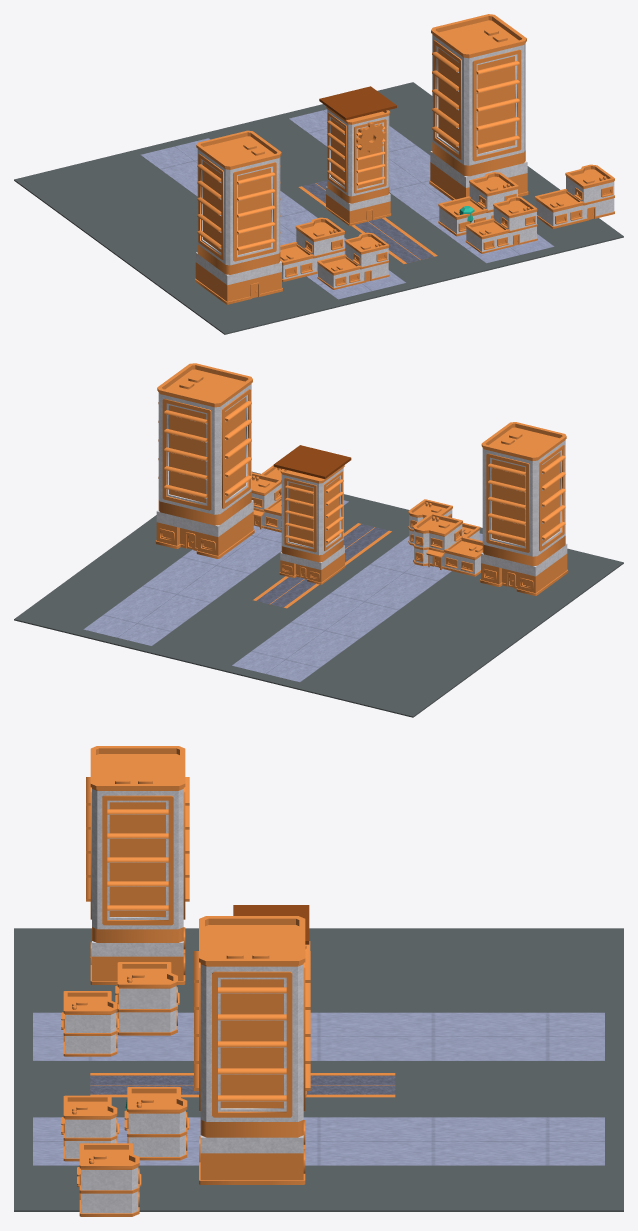
File: Street-4.obj
The picture shows the model from 3 angles, top to bottom: view 1: azimuth 30°, elevation 25°; view 2: azimuth 150°, elevation 25°; view 3: azimuth 270°, elevation 25°; orthographic projection. The views are drawn at different scales.
Visible parts, largest first — view 1: surface1, surface9, surface2, surface13, surface7, surface11, surface5, surface10; view 2: surface9, surface1, surface13, surface2, surface7, surface11, surface10, surface12; view 3: surface9, surface1, surface13, surface2, surface11, surface10, surface12, surface7.
Boxes of the visible parts, box(x1,y1,x2,y2) form: surface1: box(195, 14, 614, 304); surface9: box(14, 82, 623, 334); surface2: box(195, 35, 614, 287); surface13: box(140, 109, 554, 299); surface7: box(319, 86, 396, 120); surface11: box(305, 180, 430, 262); surface5: box(356, 121, 386, 153); surface10: box(298, 183, 437, 263); surface9: box(14, 471, 623, 717); surface1: box(155, 363, 568, 595); surface13: box(83, 500, 482, 682); surface2: box(156, 384, 567, 576); surface7: box(273, 445, 351, 478); surface11: box(260, 525, 384, 606); surface10: box(253, 523, 391, 608); surface12: box(256, 524, 388, 607); surface9: box(14, 928, 623, 1211); surface1: box(61, 746, 310, 1216); surface13: box(33, 1012, 604, 1165); surface2: box(65, 789, 305, 1213); surface11: box(90, 1078, 395, 1092); surface10: box(90, 1073, 395, 1097); surface12: box(90, 1075, 395, 1094); surface7: box(233, 905, 309, 944).
Bounding box in the file's own units: 72.49 × 26.52 × 64.
